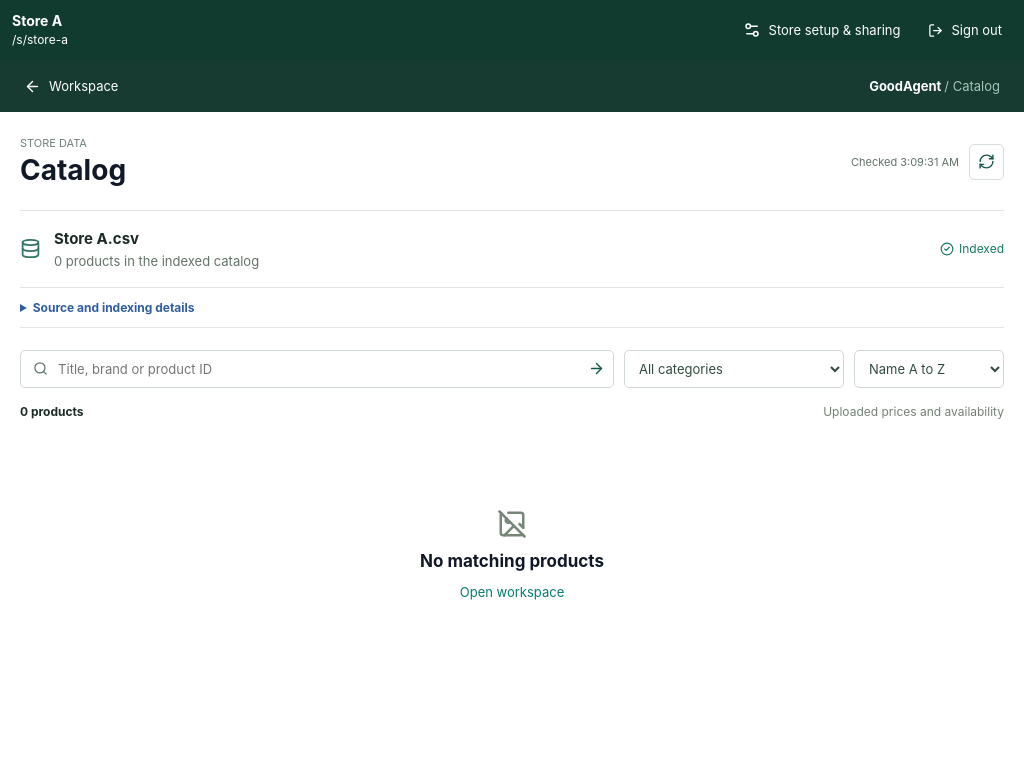
StoreAccess request intent and explicit recovery › keeps explicit recover unbound and binds the immediately accepted identity
Expected: the text "Store A.csv" is shown, [54,229,139,248]
Click the button named "Refresh catalog": (986, 162) [969,144,1004,180]
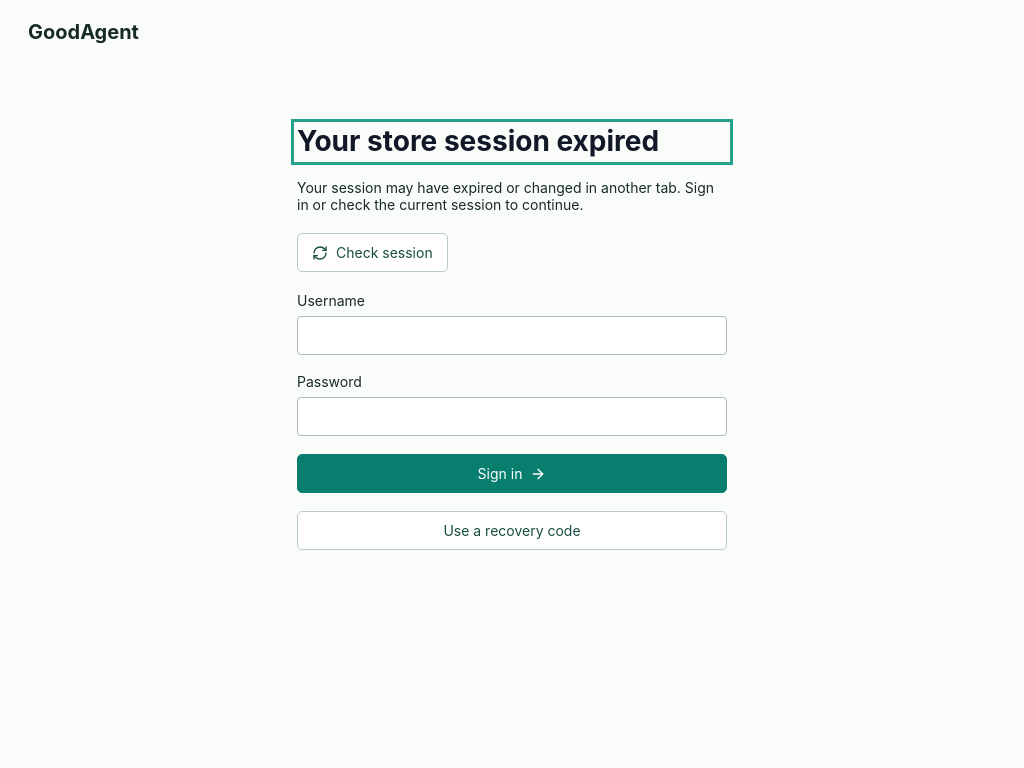
Now the button "Check session" is enabled, box [297,233,448,272]
Click the button "Use a recovery code": (512, 530) [297,511,727,550]
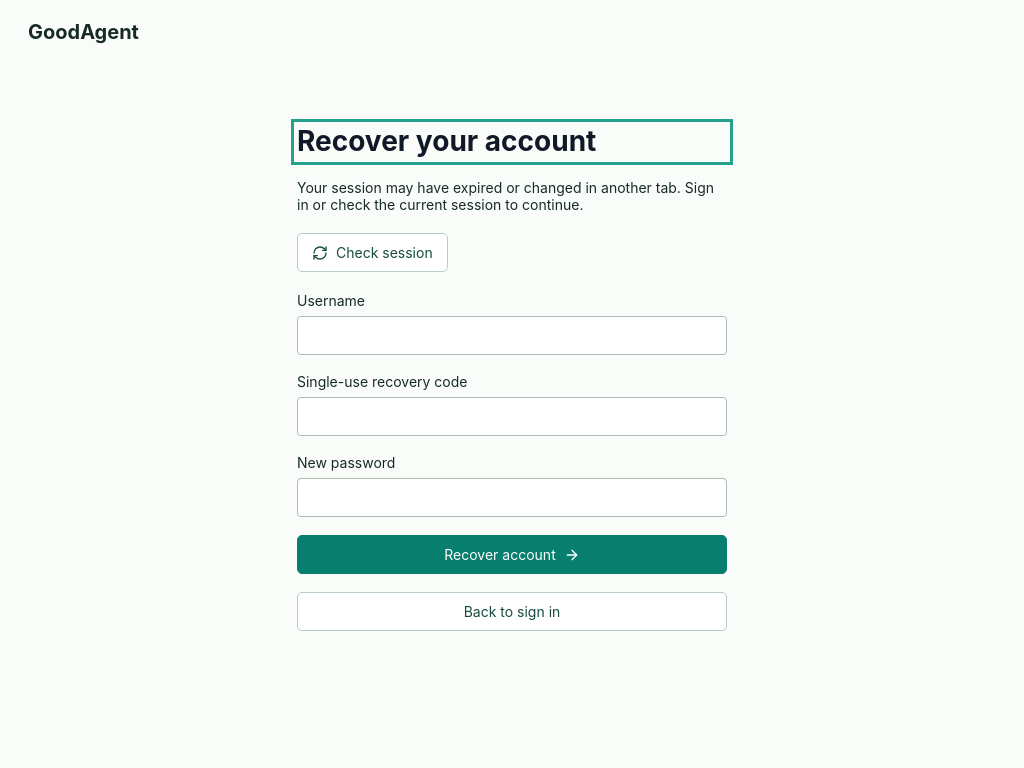
In the field labelled "Username": (512, 336) [297,316,727,355], type "fixture-b"
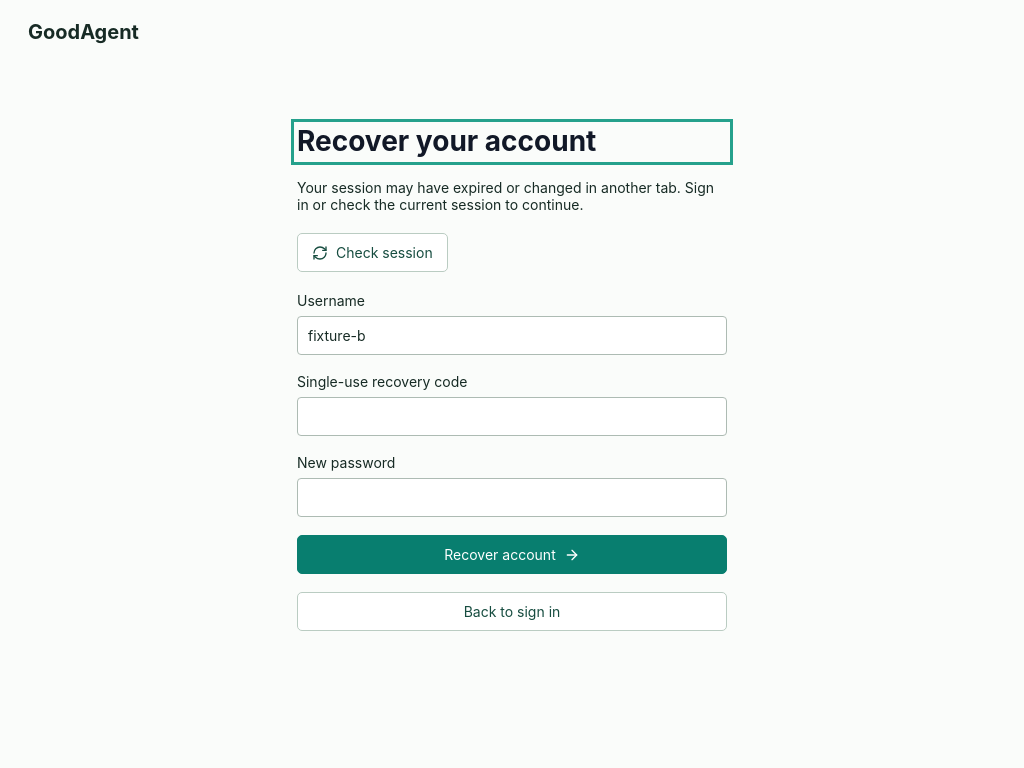
In the password field labelled "New password": (512, 498) [297,478,727,517], type "synthetic-test-only-password"
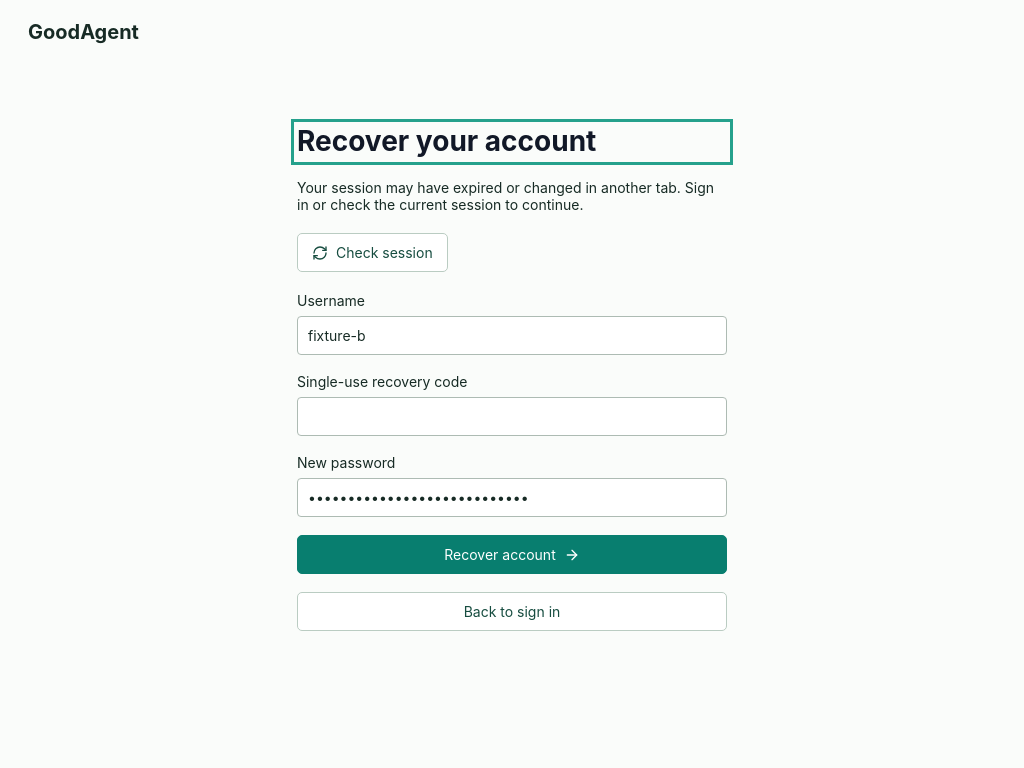
In the password field labelled "Single-use recovery code": (512, 416) [297,397,727,436], type "synthetic-test-only-code"
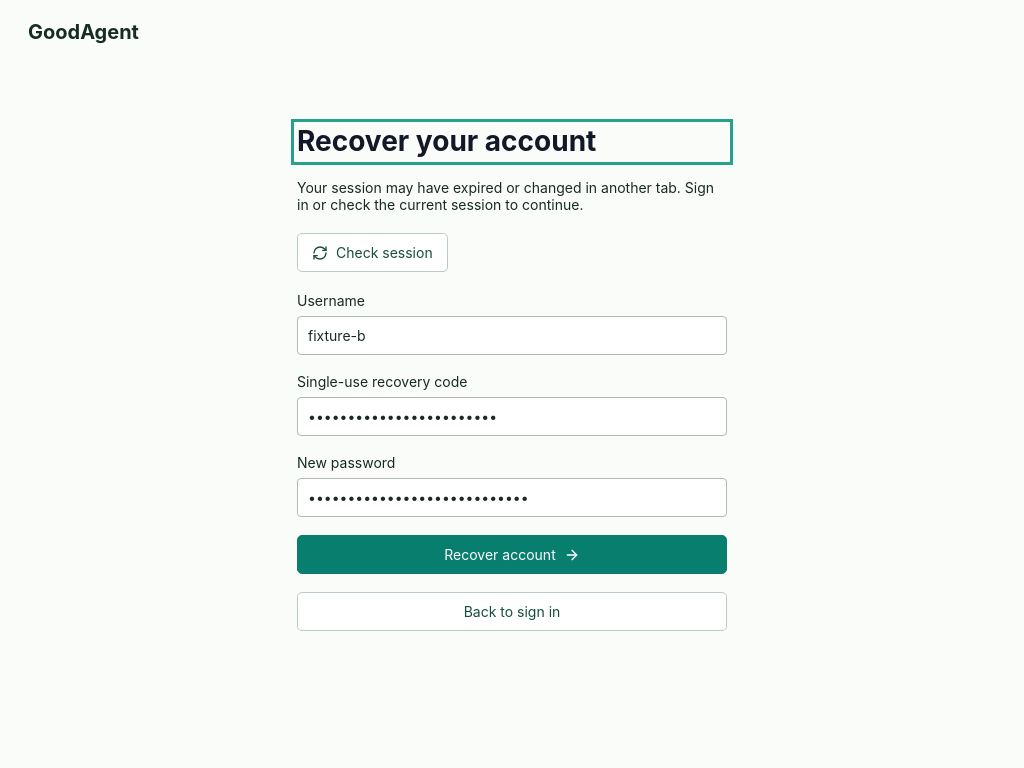
Click the button "Recover account": (512, 554) [297,535,727,574]
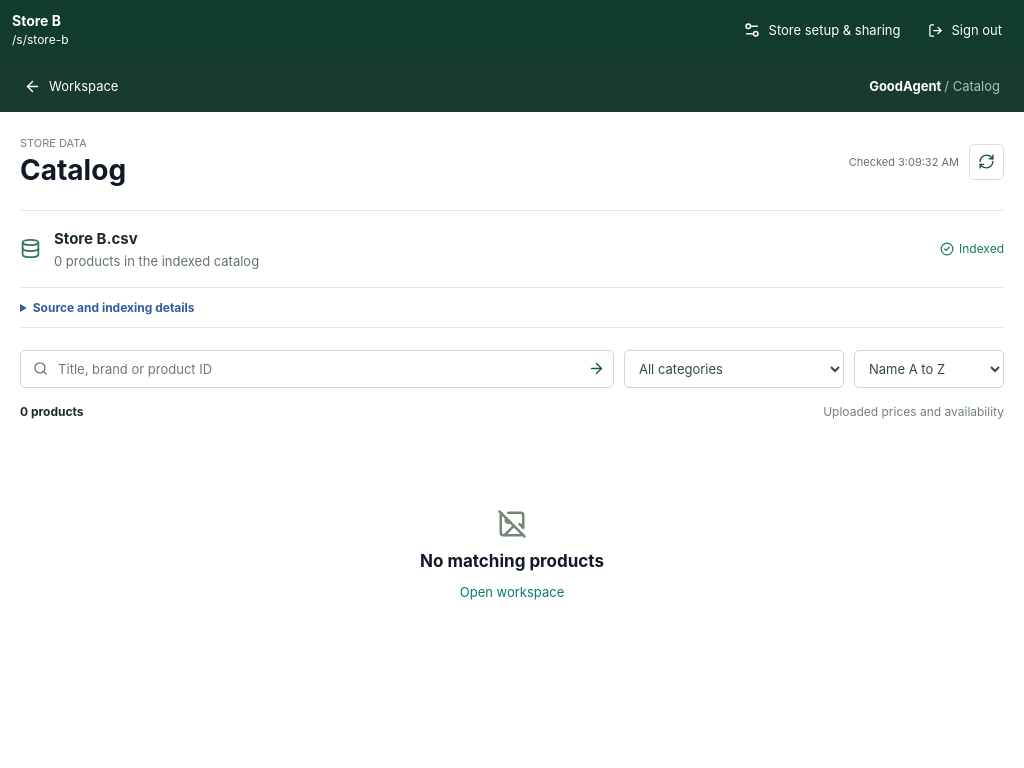
Now the text "Store B.csv" is shown, box [54,229,138,248]
